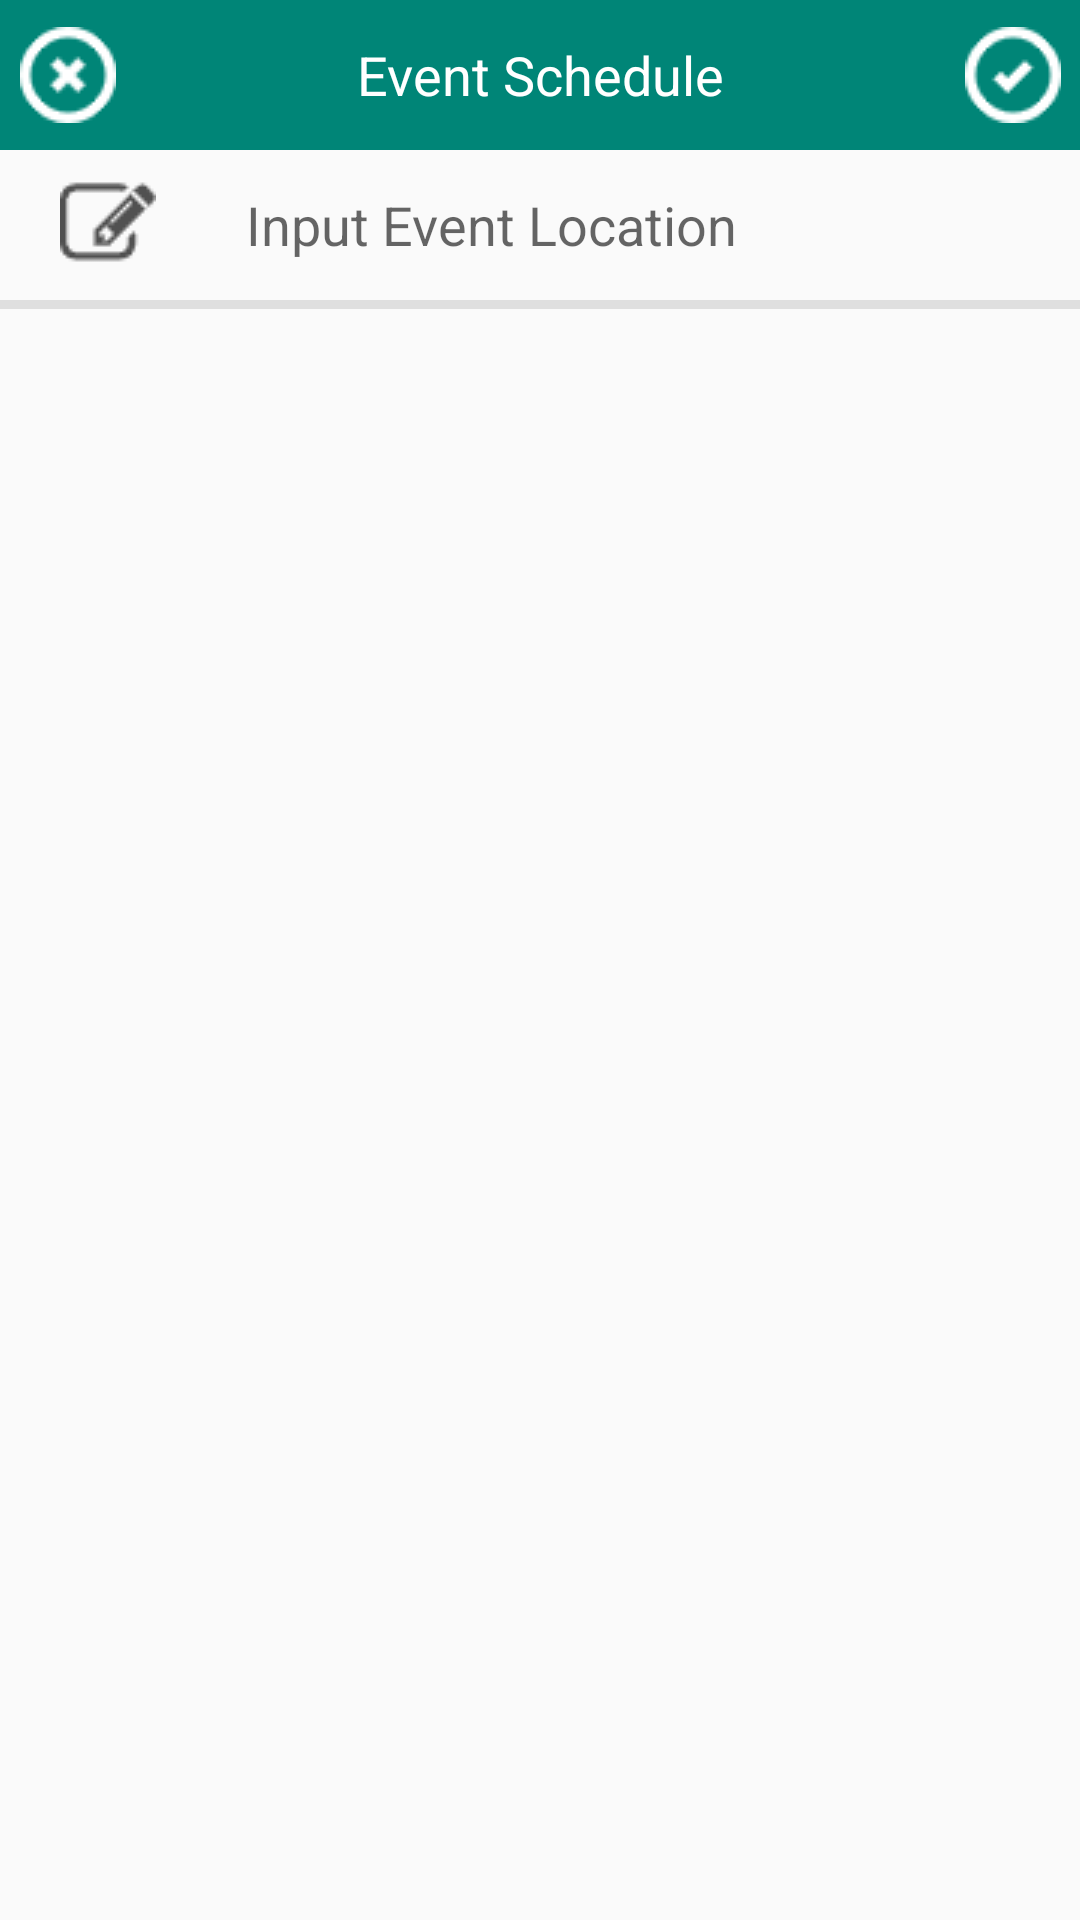

Icons on this 1080 × 1920 Android screen, each with its box as bbox(x1, y1, x2, y2):
cancel: bbox(20, 27, 116, 123)
confirm: bbox(965, 27, 1061, 123)
edit: bbox(60, 182, 156, 262)
